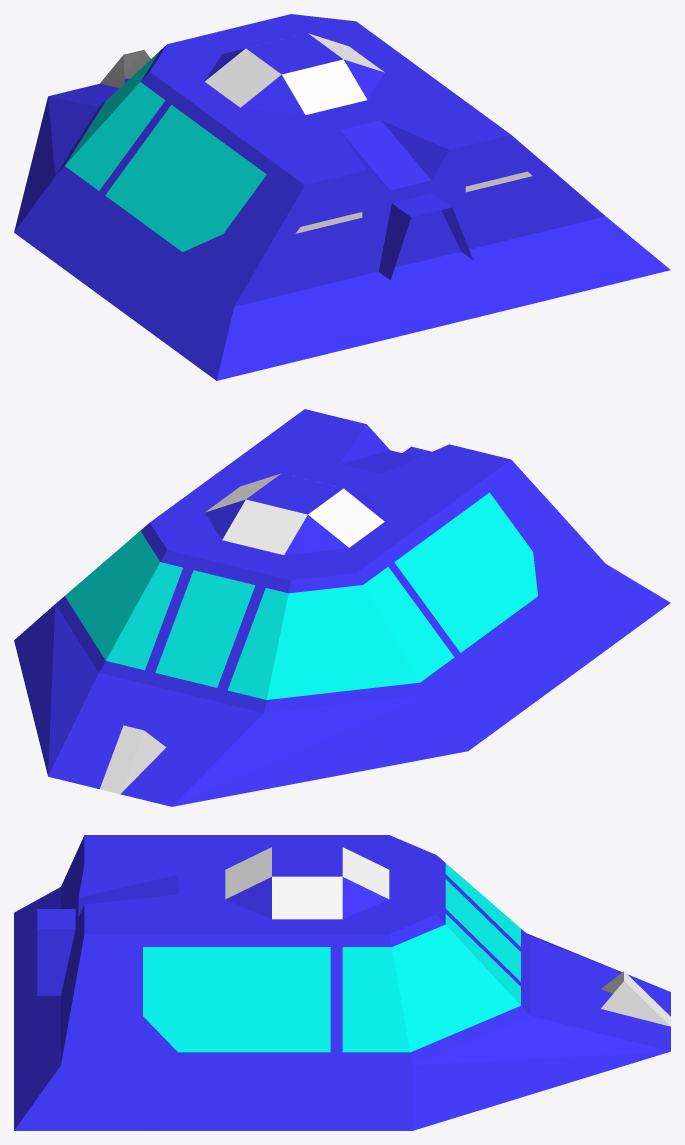
The model's file is player_01.FBX.
3 renders of one model, top to bottom at view 1: azimuth 30°, elevation 25°; view 2: azimuth 150°, elevation 25°; view 3: azimuth 270°, elevation 25°, orthographic.
Visible parts, largest first — view 1: VIFS001, VIFS002, VIFS003; view 2: VIFS001, VIFS002, VIFS003; view 3: VIFS001, VIFS002, VIFS003.
Part boxes in pixels (box(x1,y1,x2,y2)): VIFS001: box(14, 14, 670, 380); VIFS002: box(65, 51, 266, 252); VIFS003: box(100, 33, 532, 233); VIFS001: box(14, 409, 670, 806); VIFS002: box(65, 492, 537, 699); VIFS003: box(100, 473, 384, 793); VIFS001: box(14, 835, 670, 1130); VIFS002: box(143, 863, 520, 1052); VIFS003: box(225, 847, 670, 1026).
Bounding box in the file's own units: 0.6862 × 0.2346 × 0.8733.
